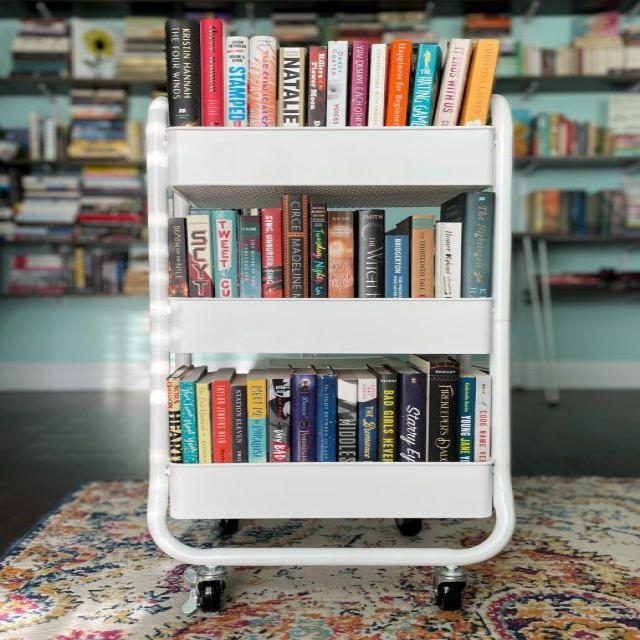book: (167, 20, 199, 126), (463, 191, 495, 297), (433, 40, 471, 125), (463, 39, 499, 125), (430, 363, 458, 461), (284, 194, 308, 298), (249, 37, 276, 126), (200, 21, 223, 125), (327, 211, 354, 297), (385, 40, 412, 126), (358, 210, 384, 297), (410, 45, 437, 126), (401, 372, 425, 460), (212, 210, 236, 297), (225, 36, 247, 126), (188, 215, 211, 298), (238, 216, 261, 298), (268, 380, 291, 462), (436, 223, 460, 298), (211, 381, 232, 463), (337, 379, 358, 461), (263, 209, 282, 297), (414, 215, 434, 297), (281, 48, 302, 126), (295, 376, 314, 462), (309, 203, 326, 297), (379, 373, 397, 461), (247, 380, 266, 462), (169, 219, 189, 296), (318, 376, 336, 461), (351, 41, 368, 126), (328, 41, 345, 125), (385, 236, 408, 298), (359, 380, 376, 460), (370, 45, 387, 125), (180, 382, 196, 463), (309, 47, 325, 126), (460, 378, 474, 462), (167, 378, 180, 461), (476, 378, 489, 461), (232, 386, 246, 462), (197, 384, 210, 462)
